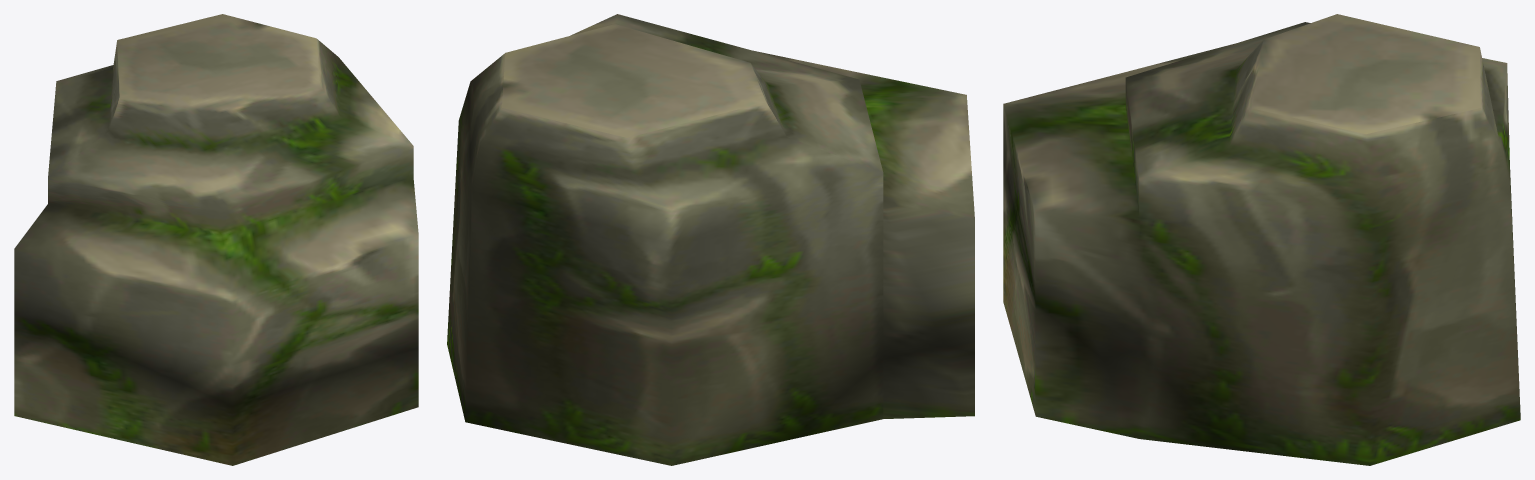
The model's file is RockFormation_4_5 (46).fbx.
3 views of the same model, side by side, from view 1: azimuth 30°, elevation 25°; view 2: azimuth 150°, elevation 25°; view 3: azimuth 270°, elevation 25° (orthographic). The views are drawn at different scales.
Visible parts, largest first — view 1: RockFormation_4_5 (46); view 2: RockFormation_4_5 (46); view 3: RockFormation_4_5 (46).
Part boxes in pixels (bbox=[...]): RockFormation_4_5 (46): bbox=[14, 14, 418, 465]; RockFormation_4_5 (46): bbox=[447, 14, 974, 465]; RockFormation_4_5 (46): bbox=[1003, 14, 1520, 465].
Size of the model in its own units: 932 by 576 by 889.
